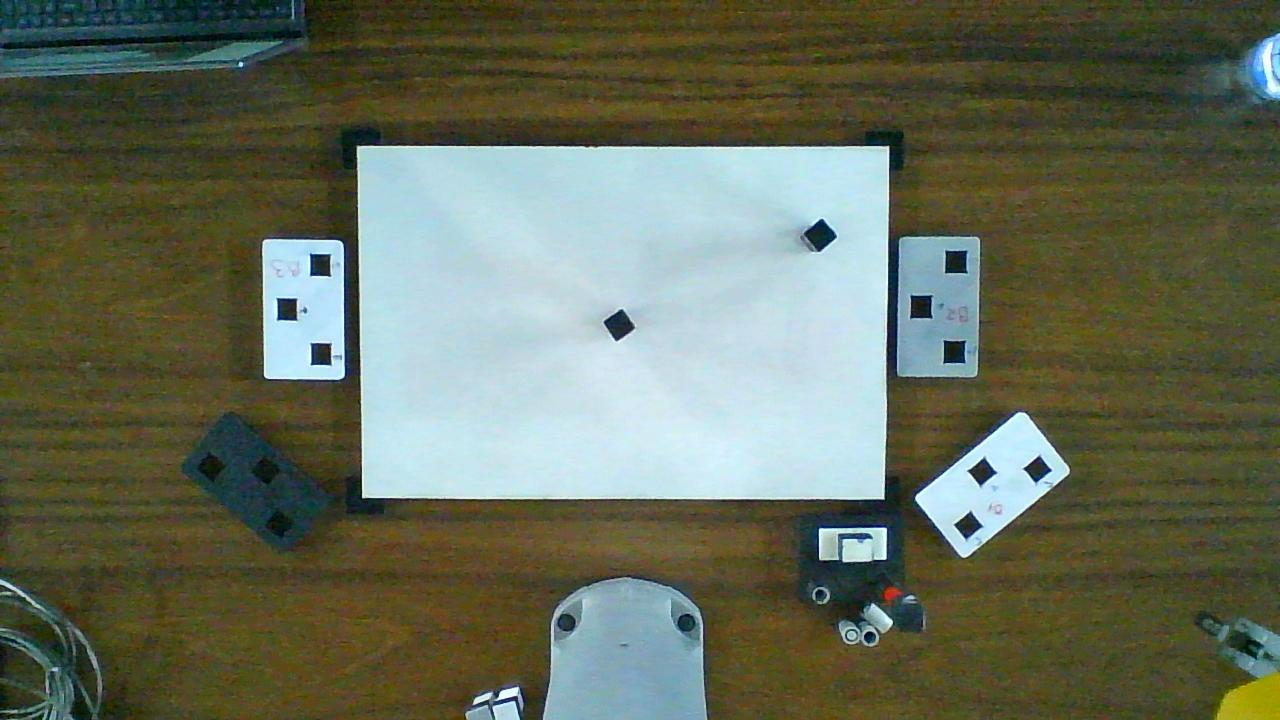peca_preta: (804, 220, 835, 251), (604, 310, 634, 340)
